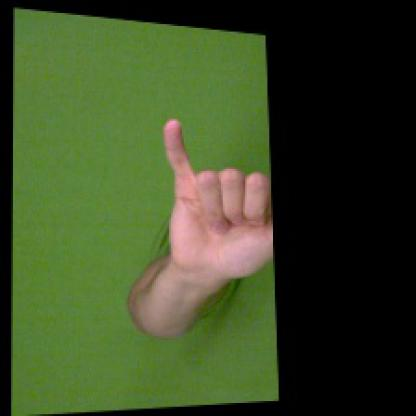Hand: (163, 121, 273, 278)
